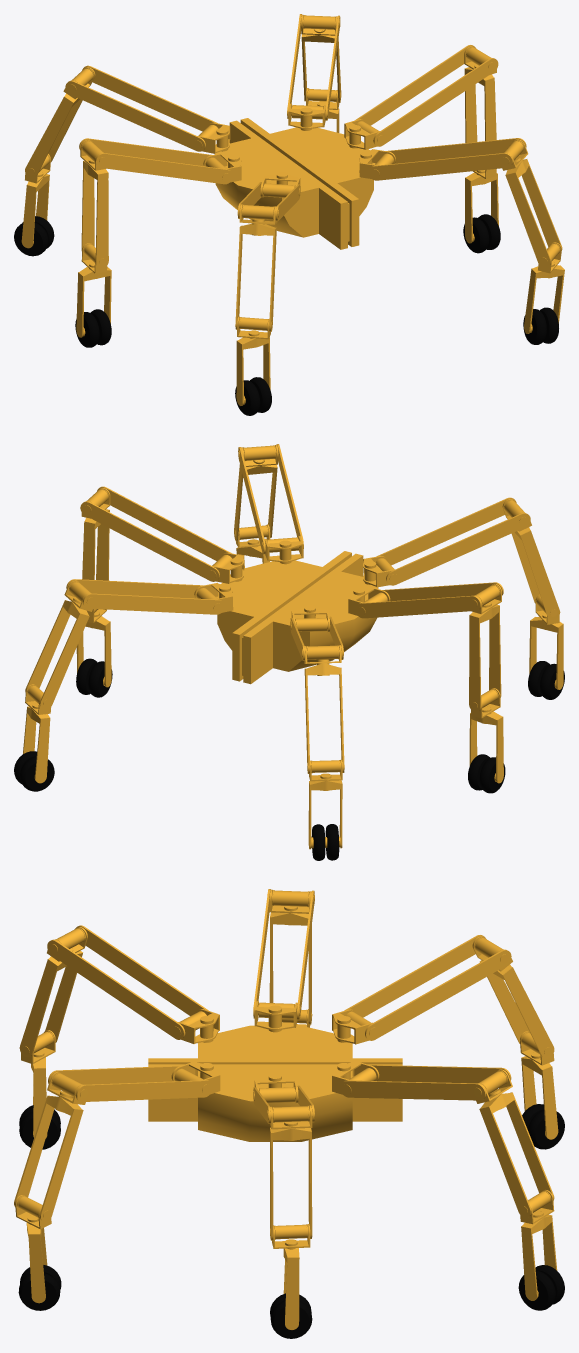
File: Athlete_Rover_Prop.glb
3 renders of one model, top to bottom at view 1: azimuth 30°, elevation 25°; view 2: azimuth 150°, elevation 25°; view 3: azimuth 270°, elevation 25°, orthographic. The views are drawn at different scales.
Visible parts, largest first — view 1: AthleteRover_Prop; view 2: AthleteRover_Prop; view 3: AthleteRover_Prop.
Boxes of the visible parts, left/top/right/bottom form: AthleteRover_Prop: left=14, top=14, right=564, bottom=415; AthleteRover_Prop: left=14, top=444, right=564, bottom=860; AthleteRover_Prop: left=14, top=889, right=564, bottom=1338.
Size of the model in its own units: 24.59 by 11.23 by 24.57.
